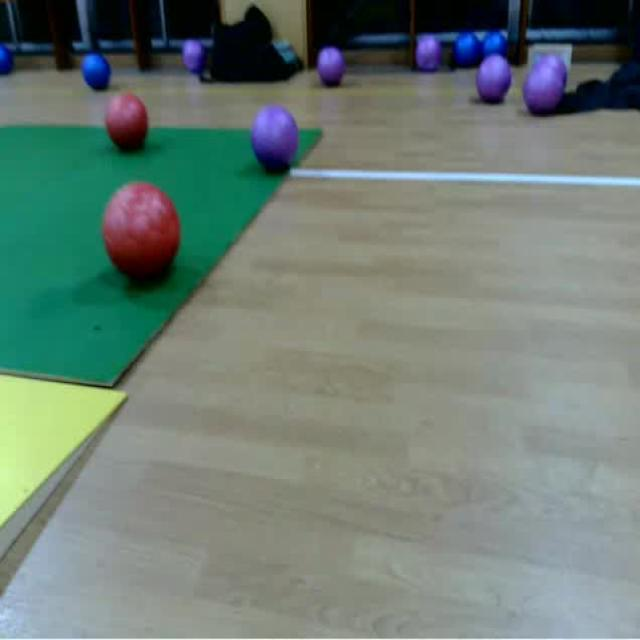blue_ball: (78, 52, 112, 90), (480, 28, 510, 62), (456, 31, 479, 66), (0, 44, 14, 74)
purple_ball: (251, 104, 304, 175), (523, 66, 566, 120), (474, 54, 514, 109), (532, 52, 573, 96), (315, 44, 348, 88), (179, 35, 206, 73), (417, 34, 442, 74)
red_ball: (96, 179, 186, 286), (104, 91, 152, 151)
